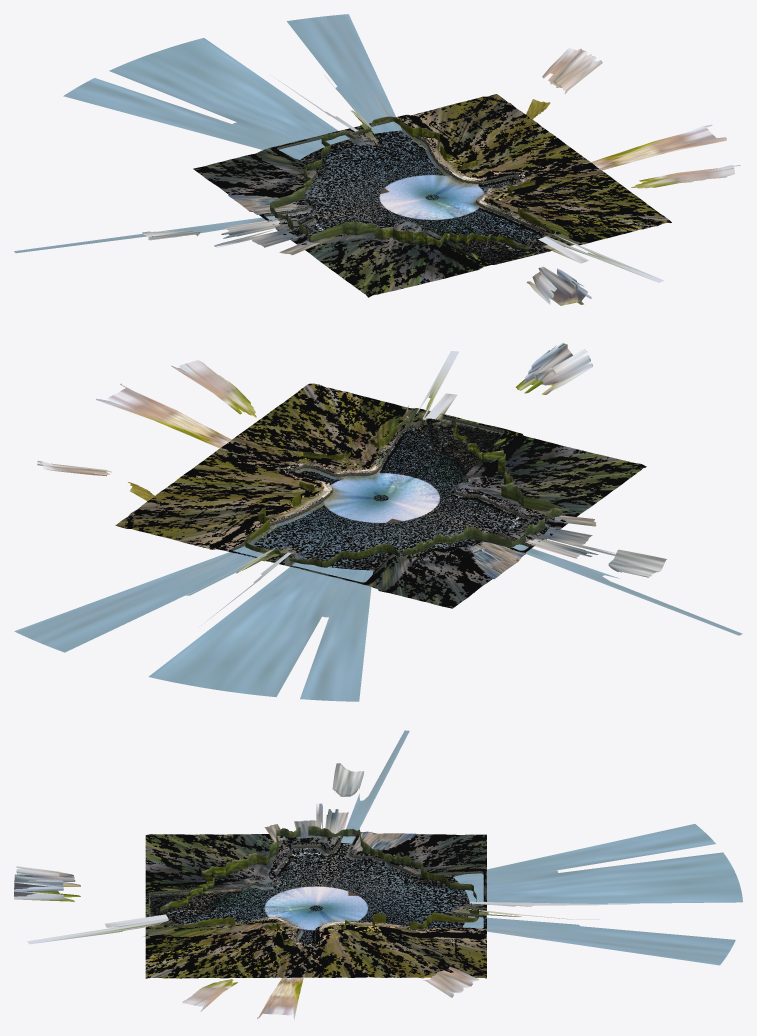
The model's file is env.glb.
3 views of the same model, one above another, from view 1: azimuth 30°, elevation 25°; view 2: azimuth 150°, elevation 25°; view 3: azimuth 270°, elevation 25° (orthographic). The views are drawn at different scales.
Parts seen in each view (by area): view 1: terrain, terrain_overlay_2, water_apron, backdrop (×2), wall, formation_3; view 2: terrain, terrain_overlay_2, water_apron, backdrop (×2), wall, formation_3; view 3: terrain, terrain_overlay_2, water_apron, backdrop (×2), wall, formation_3.
Part boxes in pixels (x1,y1,x2,y2): terrain: (193,94,671,297); terrain_overlay_2: (193,94,669,295); water_apron: (14,14,401,253); backdrop (×2): (142,48,740,305); wall: (251,121,663,269); formation_3: (228,195,307,214); terrain: (115,384,646,608); terrain_overlay_2: (116,384,643,608); water_apron: (14,544,742,701); backdrop (×2): (37,342,666,625); wall: (212,383,543,590); formation_3: (468,541,526,579); terrain: (145,833,486,978); terrain_overlay_2: (145,834,486,978); water_apron: (341,730,742,965); backdrop (×2): (14,763,630,1020); wall: (145,834,486,978); formation_3: (350,831,415,855).
Size of the model in its own units: 842 by 44.64 by 854.
9 materials, 9 textured.
